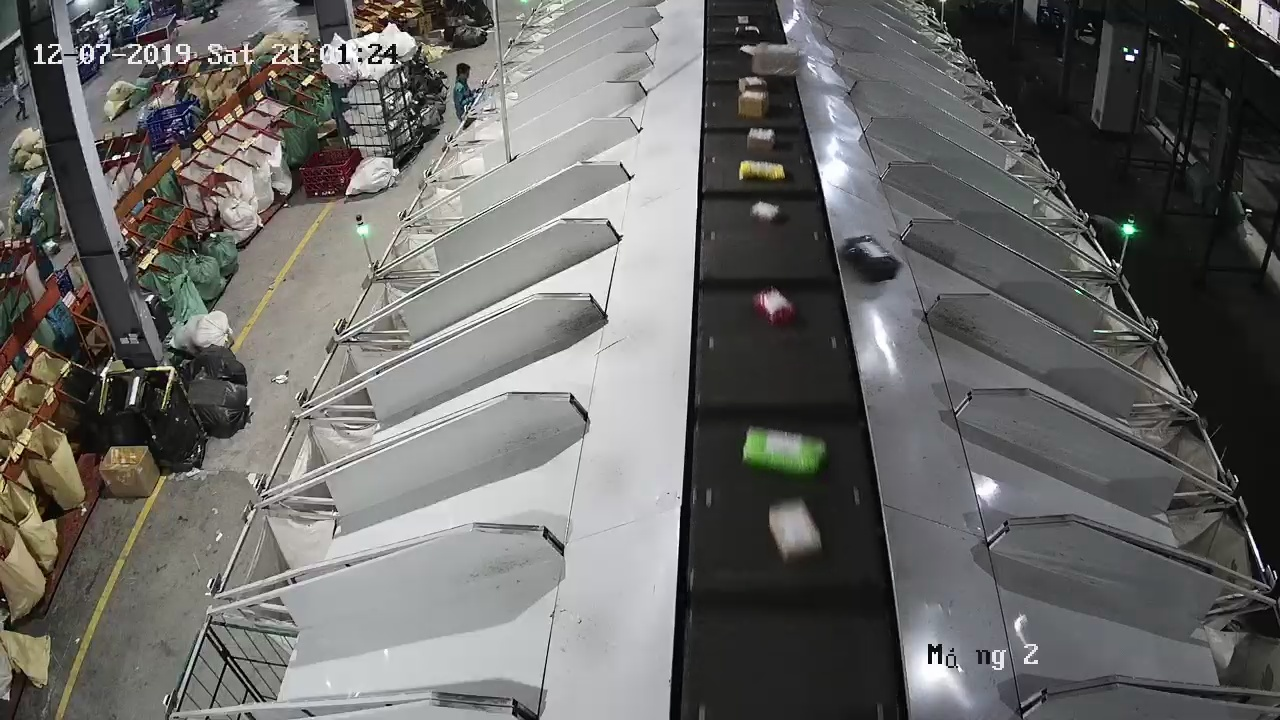parcel: (841, 234, 900, 284)
